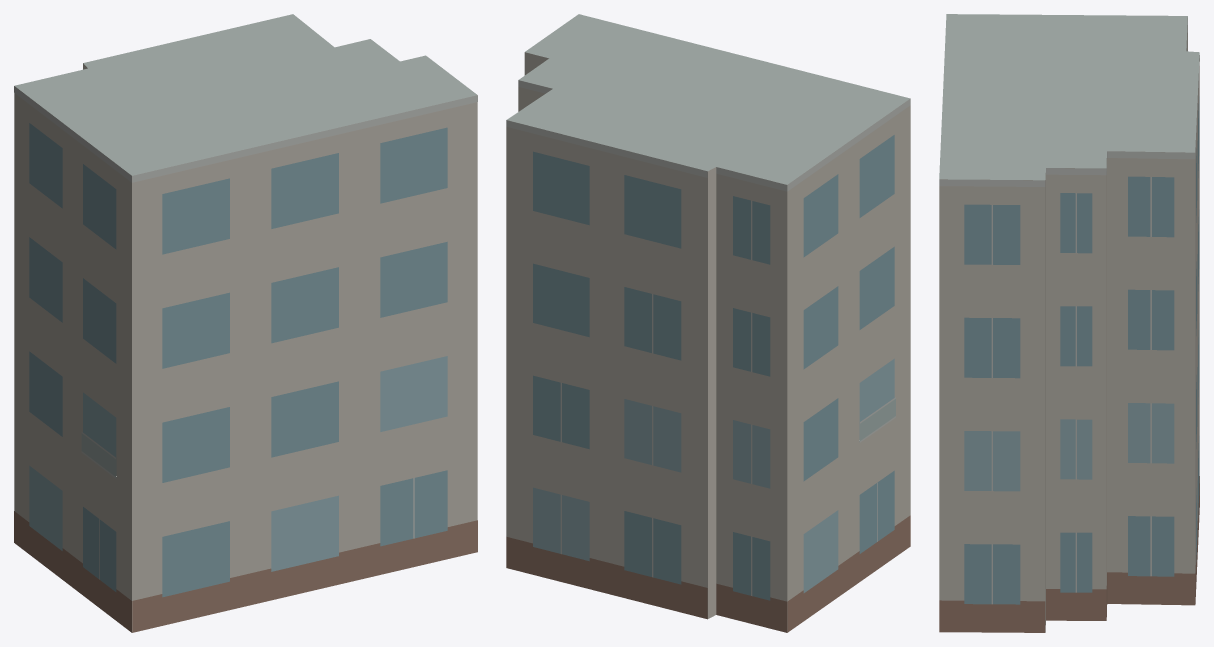
The model's file is survey-upis-32483599.glb.
3 renders of one model, left to right at view 1: azimuth 30°, elevation 25°; view 2: azimuth 150°, elevation 25°; view 3: azimuth 270°, elevation 25°, orthographic. The views are drawn at different scales.
Visible parts, largest first — view 1: survey-upis-32483599.tmp; view 2: survey-upis-32483599.tmp; view 3: survey-upis-32483599.tmp.
Part boxes in pixels (x1,y1,x2,y2): survey-upis-32483599.tmp: (14, 14, 477, 632); survey-upis-32483599.tmp: (506, 14, 910, 632); survey-upis-32483599.tmp: (939, 14, 1199, 632).
Bounding box in the file's own units: 12.76 × 16.17 × 8.45.
